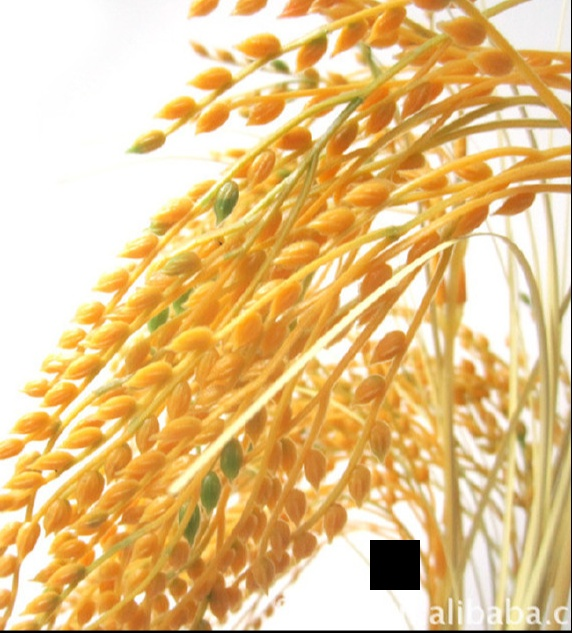rice: (8, 10, 537, 629)
